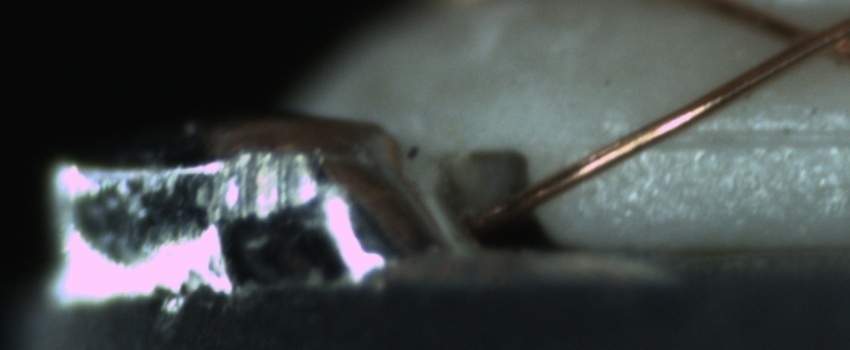CL: (767, 9, 848, 66)
DL: (621, 102, 845, 173)
